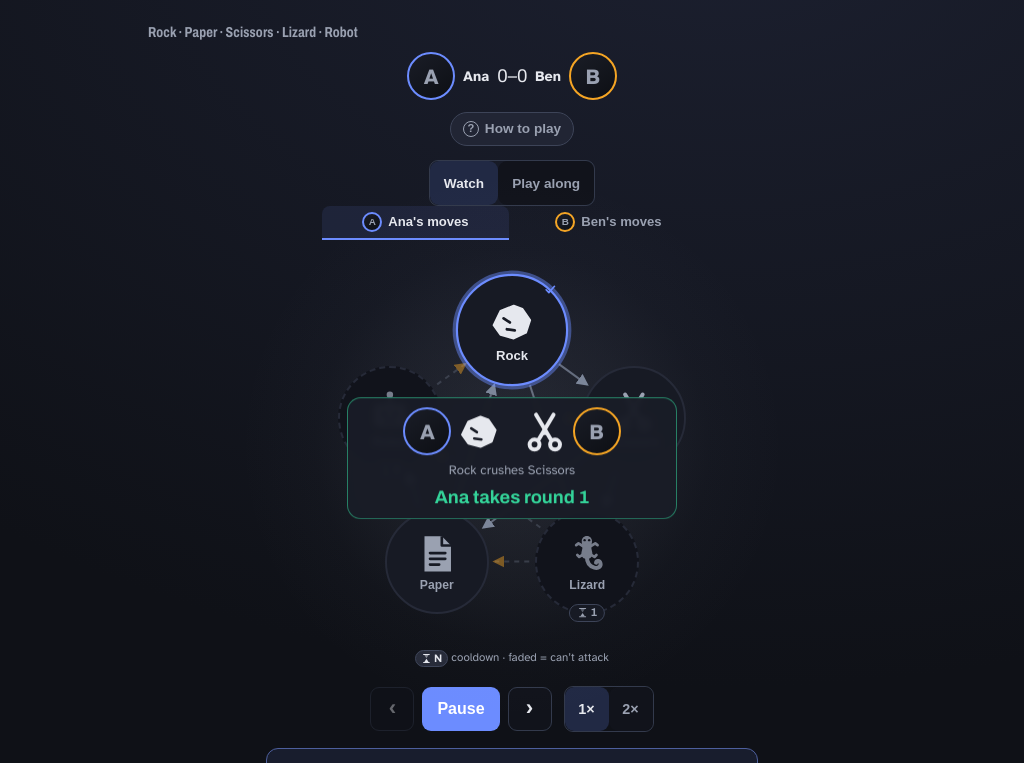
Test case: <ReplayPage> › plays the deciding round out before it declares the winner
expect the text "Ana" is shown: met, box [463, 67, 489, 85]
Click the button named "Next round": (530, 709) [508, 687, 552, 731]
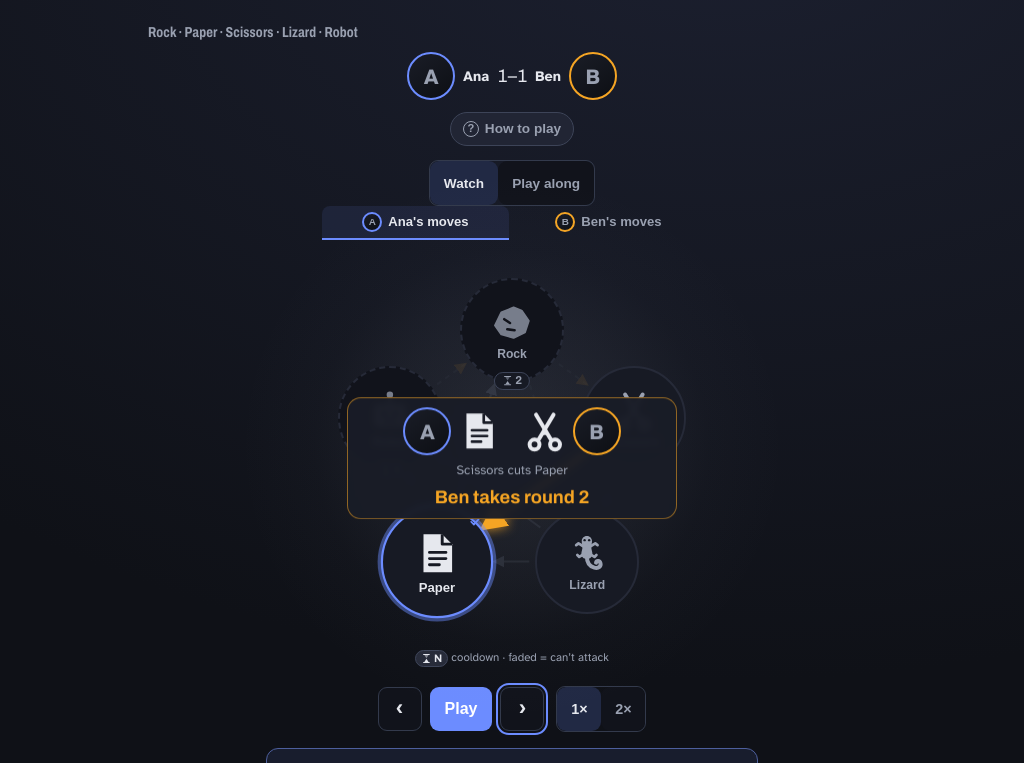
Click the button named "Next round": (522, 709) [500, 687, 544, 731]
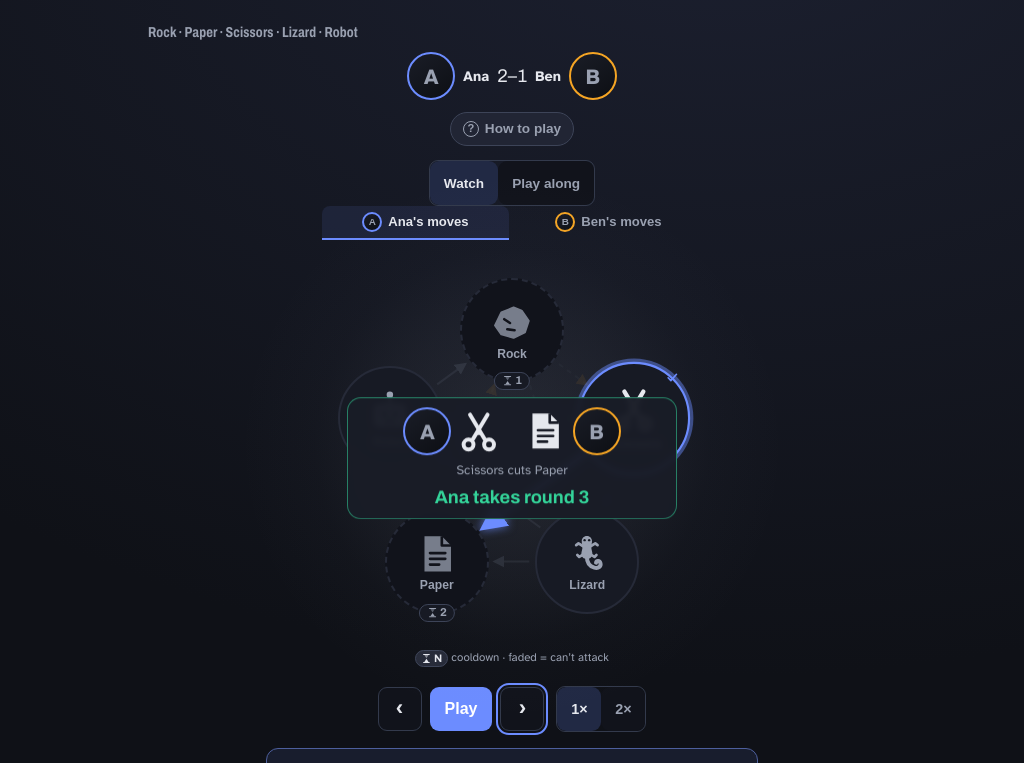
expect the text "Ana takes round 3" is shown: met, box [435, 486, 589, 509]
